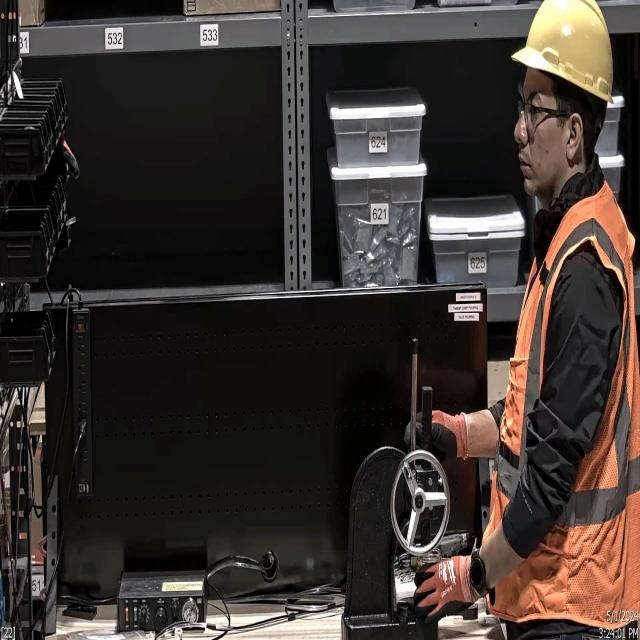construction-gloves: (410, 554, 491, 626), (402, 408, 474, 466)
